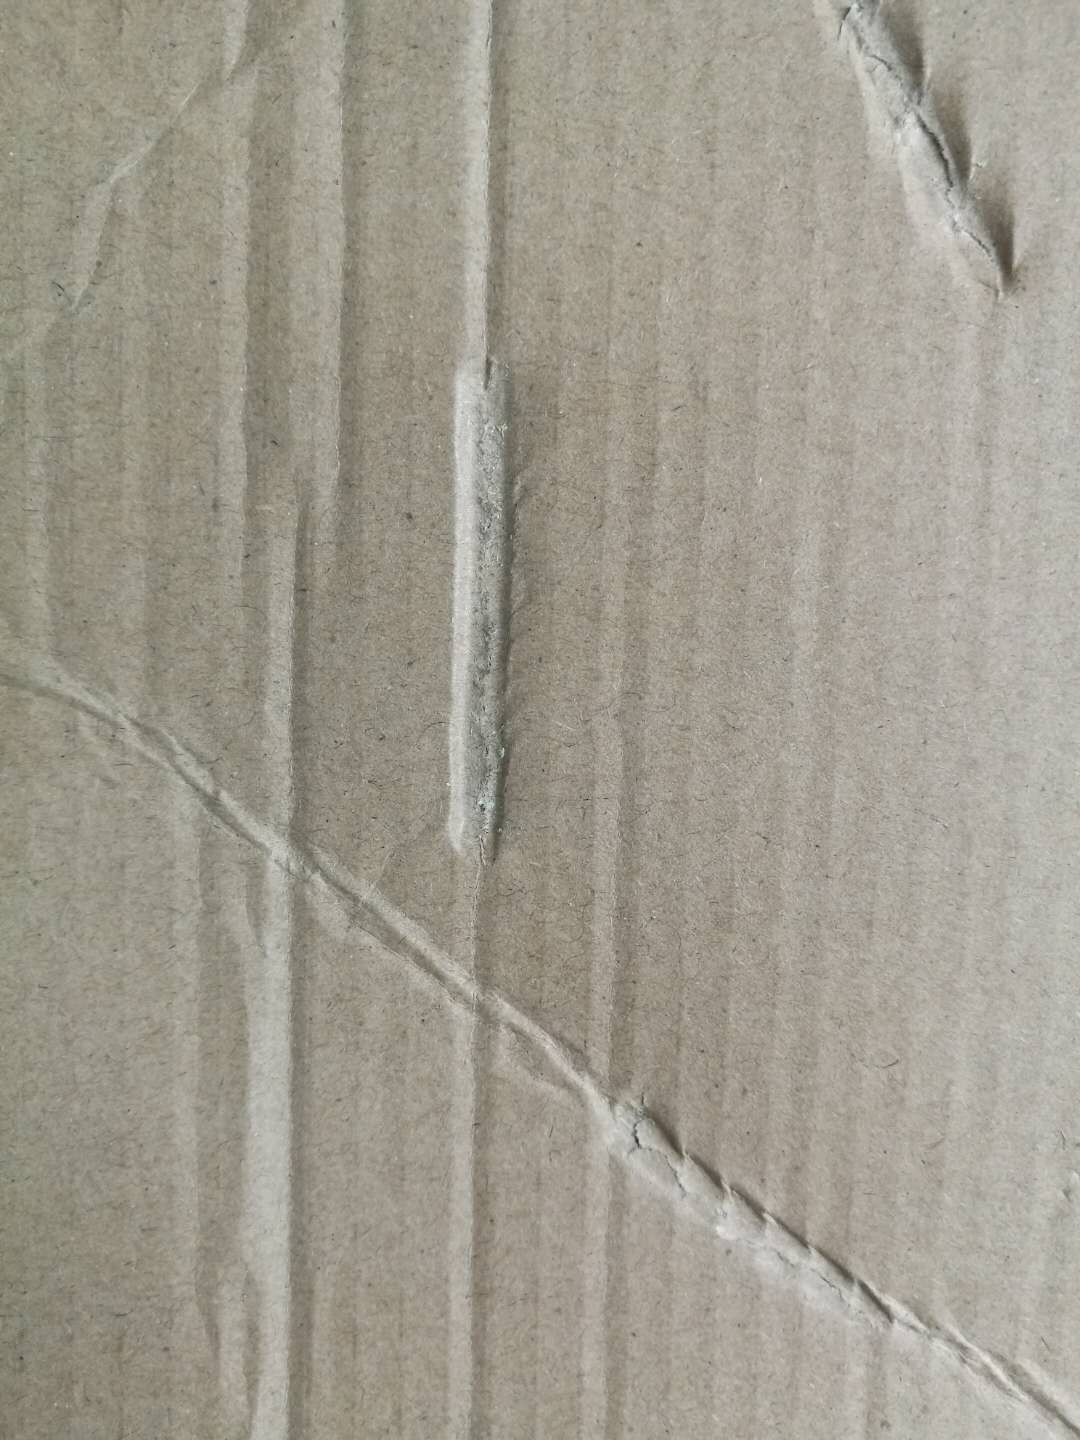defect: (5, 599, 1080, 1435), (2, 1, 424, 1428), (399, 7, 568, 1440), (788, 1, 1068, 325), (566, 684, 683, 1440)
